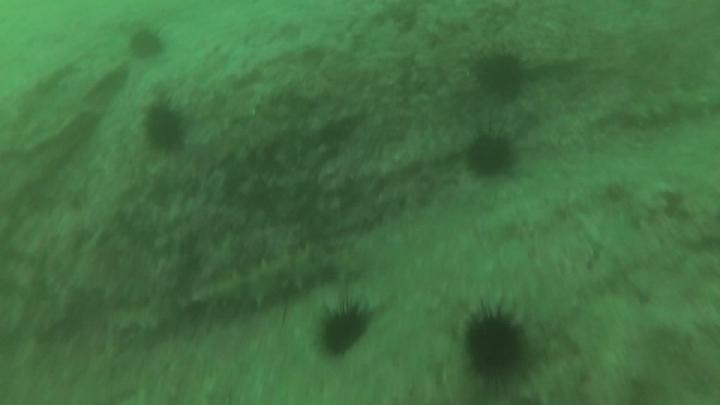echinus: (457, 301, 534, 390), (313, 299, 375, 361), (471, 49, 529, 102), (462, 128, 520, 181), (141, 100, 189, 155), (126, 26, 167, 63)
holothurian: (189, 244, 358, 318), (598, 80, 720, 134), (511, 354, 591, 405)
